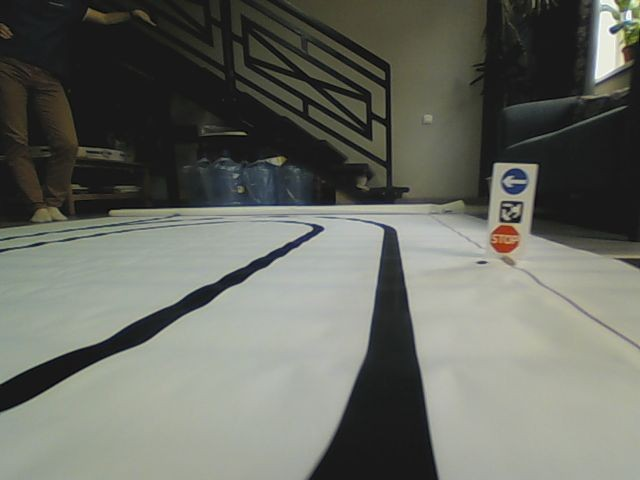Stop: (488, 223, 521, 255)
